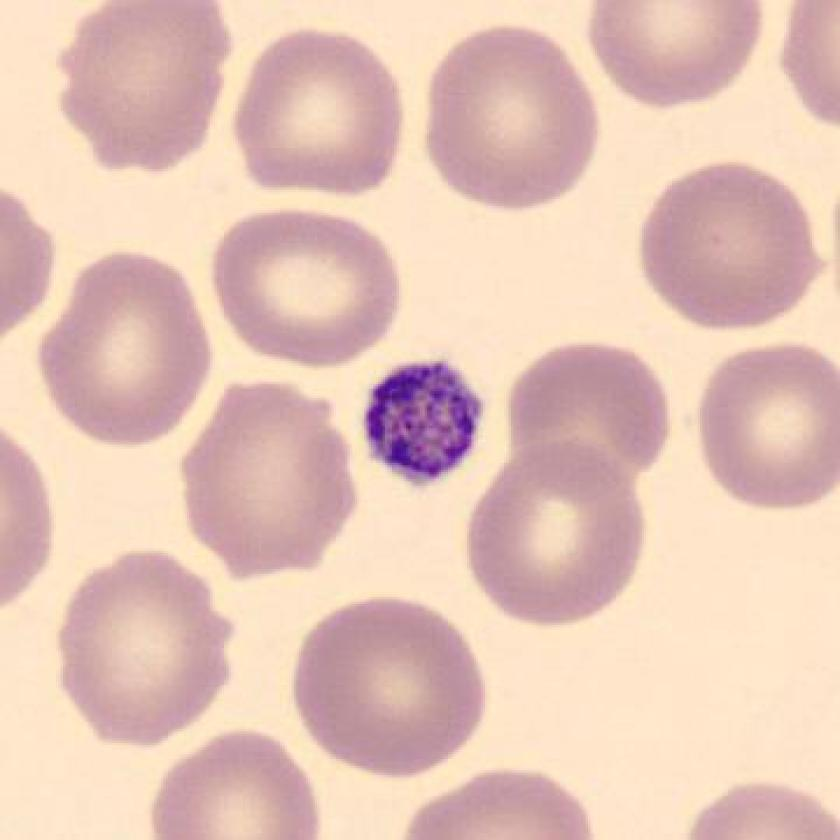platelets: (354, 348, 501, 499)
